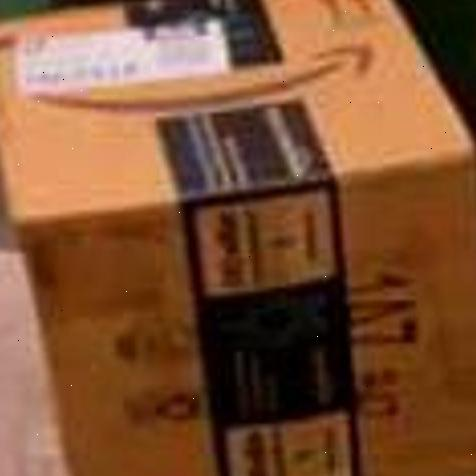Amazon: (0, 20, 476, 476)
